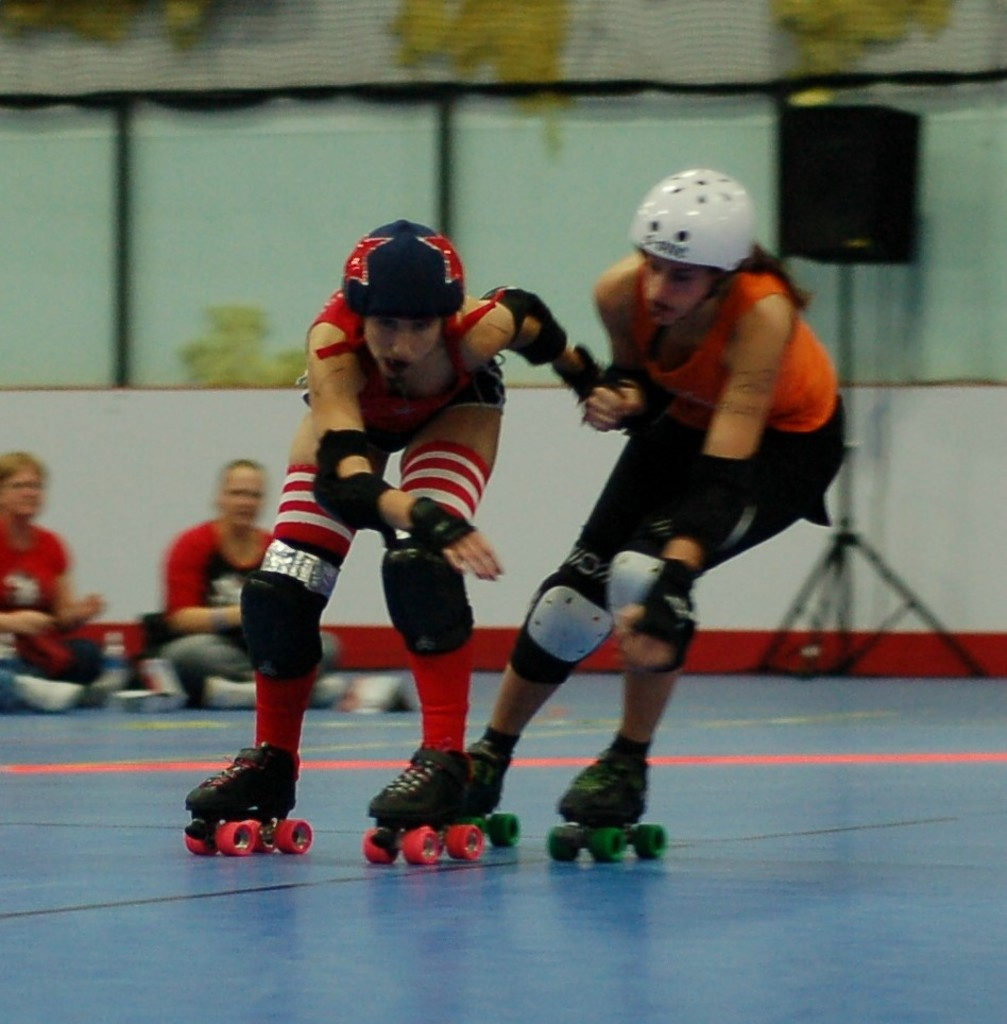Human_hand: (609, 591, 696, 676), (429, 516, 501, 580), (581, 378, 645, 433), (568, 366, 615, 398), (11, 607, 56, 638), (72, 591, 106, 620)
